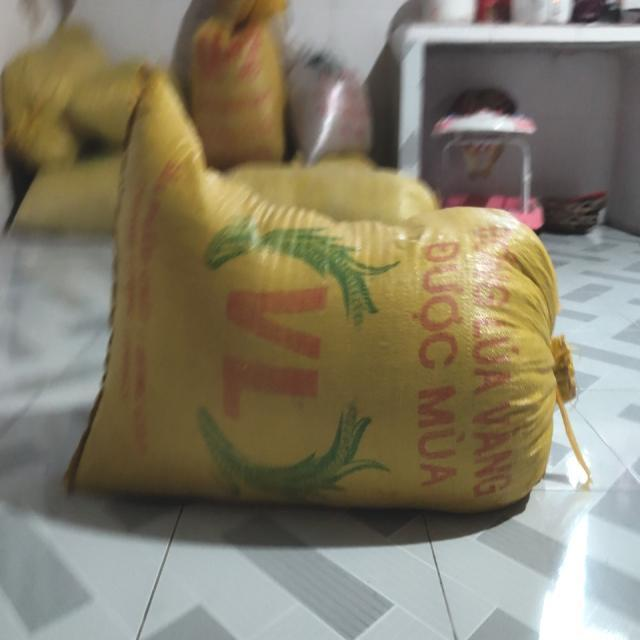gunny_bag: (65, 68, 560, 512)
